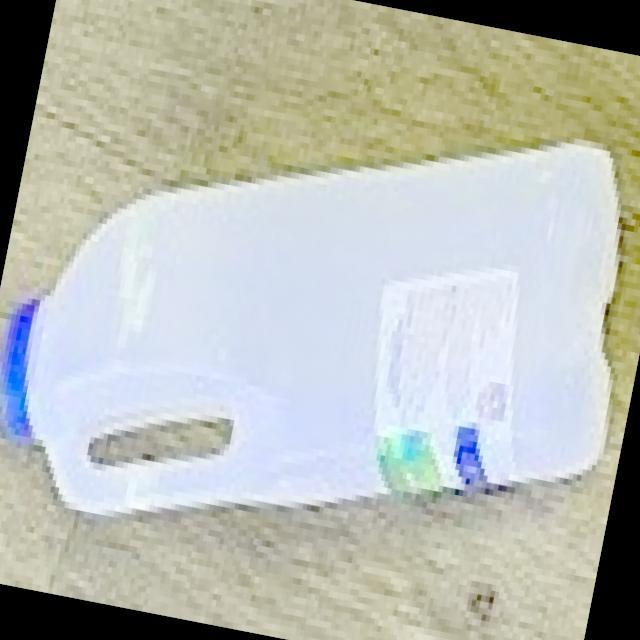HDPE Plastic: (1, 135, 627, 522)
